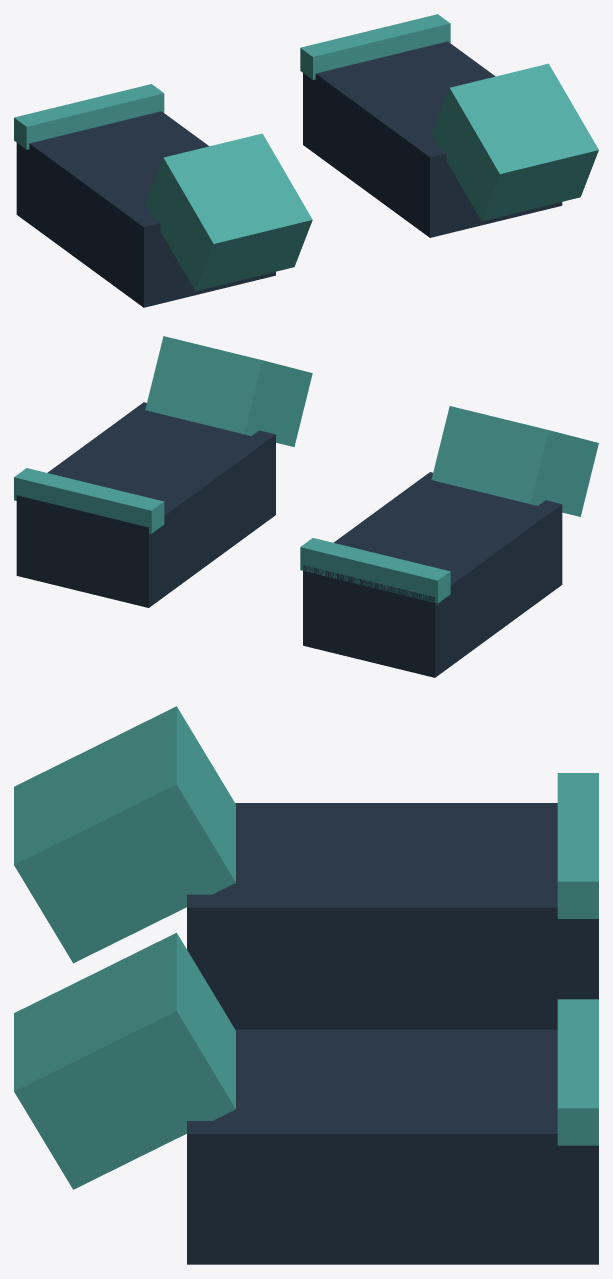
File: gear_sin_t2.glb
3 renders of one model, top to bottom at view 1: azimuth 30°, elevation 25°; view 2: azimuth 150°, elevation 25°; view 3: azimuth 270°, elevation 25°, orthographic. The views are drawn at different scales.
Parts seen in each view (by area): view 1: gear_sin_t2; view 2: gear_sin_t2; view 3: gear_sin_t2.
Part boxes in pixels (box(x1,y1,x2,y2)): gear_sin_t2: box(14, 14, 598, 307); gear_sin_t2: box(14, 336, 598, 677); gear_sin_t2: box(14, 706, 598, 1264).
Size of the model in its own units: 0.385 by 0.1289 by 0.2839.
